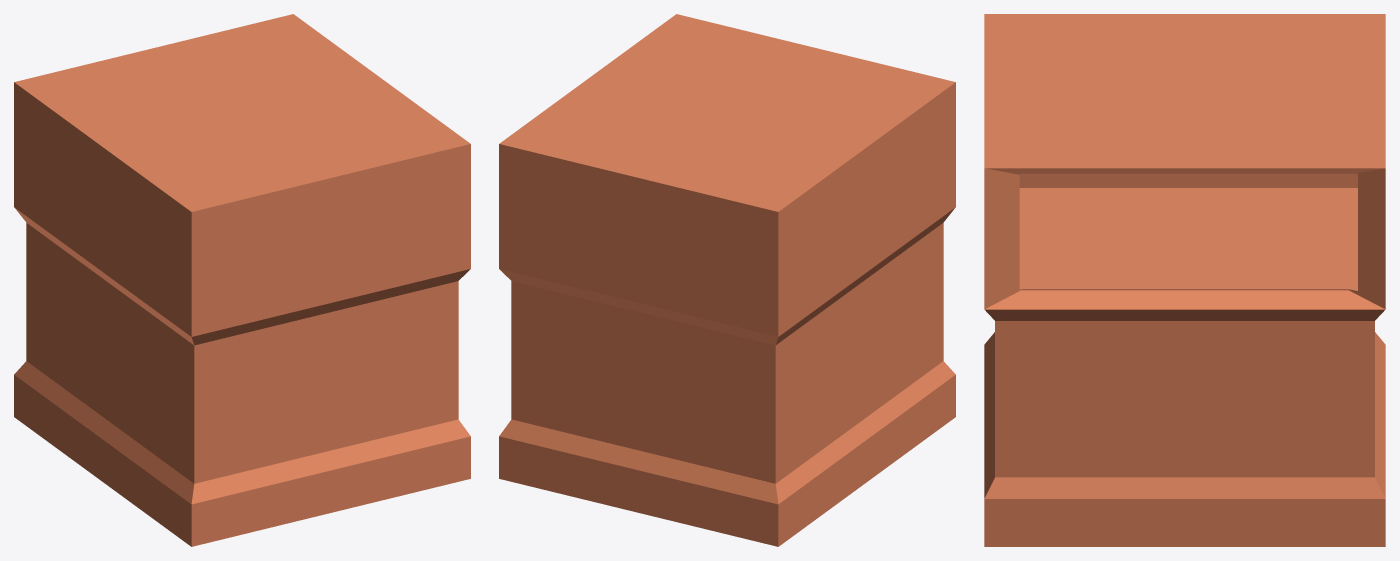
The model's file is DRAWER.fbx.
3 views of the same model, side by side, from view 1: azimuth 30°, elevation 25°; view 2: azimuth 150°, elevation 25°; view 3: azimuth 270°, elevation 25° (orthographic). The views are drawn at different scales.
Parts seen in each view (by area): view 1: drawer; view 2: drawer; view 3: drawer.
Boxes of the visible parts, bbox=[...] form: drawer: bbox=[14, 14, 470, 546]; drawer: bbox=[499, 14, 955, 546]; drawer: bbox=[984, 14, 1385, 546].
Bounding box in the file's own units: 200 × 230 × 221.
